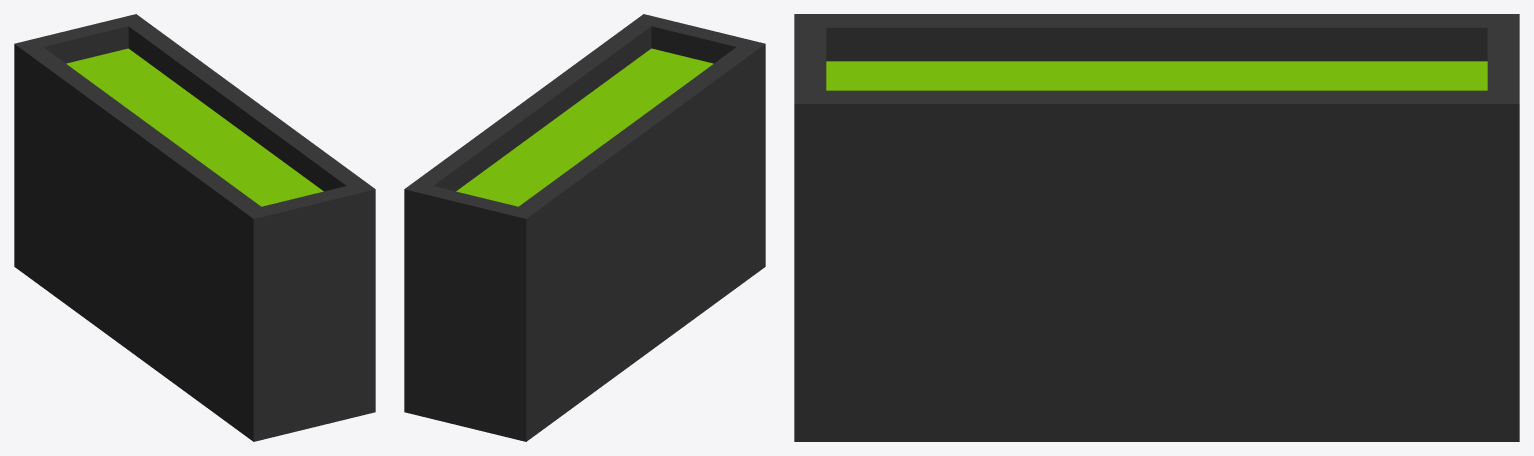
The model's file is Nature_Deco_Small.obj.
3 renders of one model, left to right at view 1: azimuth 30°, elevation 25°; view 2: azimuth 150°, elevation 25°; view 3: azimuth 270°, elevation 25°, orthographic. The views are drawn at different scales.
Parts seen in each view (by area): view 1: Nature_Deco_Small; view 2: Nature_Deco_Small; view 3: Nature_Deco_Small.
Part boxes in pixels (x1,y1,x2,y2): Nature_Deco_Small: [14, 14, 375, 441]; Nature_Deco_Small: [404, 14, 765, 441]; Nature_Deco_Small: [794, 14, 1519, 441].
Bounding box in the file's own units: 0.375 × 0.6552 × 1.27.
